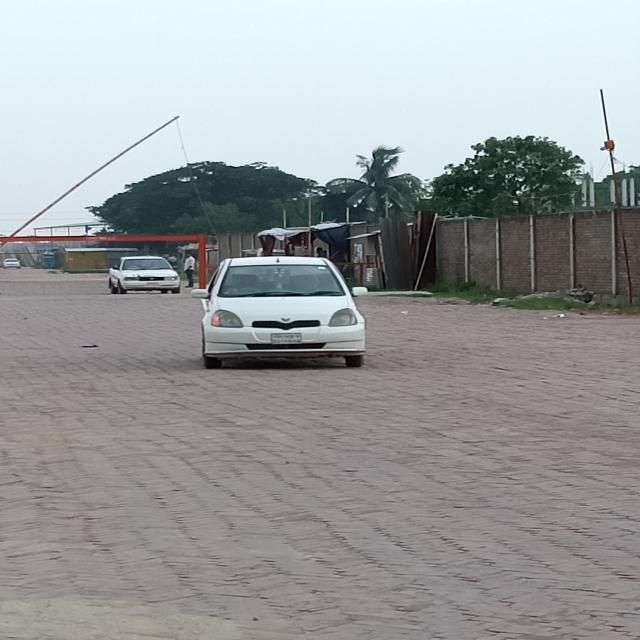car: (196, 252, 377, 371), (100, 244, 184, 301)
